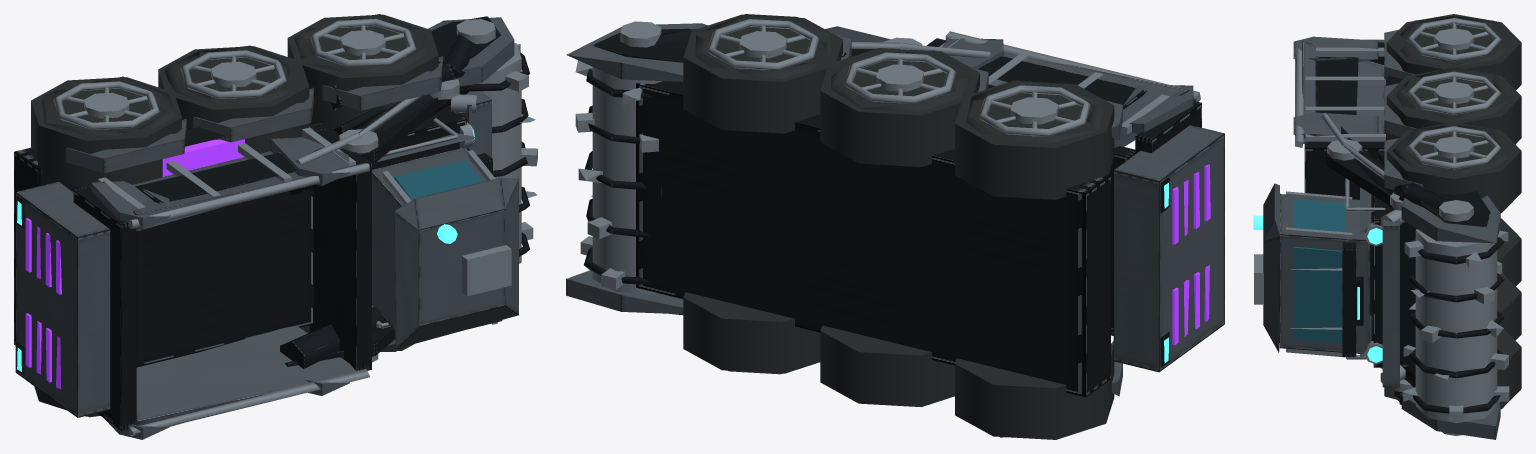
Rendered from harvester-low.glb.
3 views of the same model, side by side, from view 1: azimuth 30°, elevation 25°; view 2: azimuth 150°, elevation 25°; view 3: azimuth 270°, elevation 25° (orthographic). The views are drawn at different scales.
Visible parts, largest first — view 1: harvester-root.001 / Brushed pale alloy.001, harvester-root.001 / Ceramic graphite.001, harvester-root.001 / Titanium edges.001, Wheel 2 1.001 / Tire rubber.001, Wheel 0 1.001 / Tire rubber.001, Wheel 1 1.001 / Tire rubber.001, Mineral intake roller.001 / Titanium edges.001, harvester-root.001 / Violet processing.001, Wheel 1 1.001 / Titanium edges.001, Wheel 2 1.001 / Titanium edges.001, Wheel 0 1.001 / Titanium edges.001, harvester-root.001 / Cyan glazing.001 (+2 smaller); view 2: harvester-root.001 / Ceramic graphite.001, harvester-root.001 / Brushed pale alloy.001, Wheel 2 1.001 / Tire rubber.001, Wheel 0 1.001 / Tire rubber.001, Wheel 1 1.001 / Tire rubber.001, Mineral intake roller.001 / Titanium edges.001, Wheel 2 -1.001 / Tire rubber.001, Wheel 0 -1.001 / Tire rubber.001, Wheel 1 -1.001 / Tire rubber.001, harvester-root.001 / Titanium edges.001, Wheel 0 1.001 / Titanium edges.001, Wheel 1 1.001 / Titanium edges.001 (+3 smaller); view 3: harvester-root.001 / Brushed pale alloy.001, Mineral intake roller.001 / Titanium edges.001, harvester-root.001 / Ceramic graphite.001, harvester-root.001 / Titanium edges.001, Wheel 0 1.001 / Tire rubber.001, harvester-root.001 / Cyan glazing.001, Wheel 1 1.001 / Tire rubber.001, Wheel 2 1.001 / Tire rubber.001, Mineral intake roller.001 / Ceramic graphite.001, Wheel 2 1.001 / Titanium edges.001, Wheel 0 1.001 / Titanium edges.001, Wheel 1 1.001 / Titanium edges.001 (+4 smaller).
Part boxes in pixels (box(x1,y1,x2,y2)): harvester-root.001 / Brushed pale alloy.001: box(15, 17, 518, 439); harvester-root.001 / Ceramic graphite.001: box(14, 16, 500, 430); harvester-root.001 / Titanium edges.001: box(98, 19, 511, 435); Wheel 2 1.001 / Tire rubber.001: box(31, 76, 181, 187); Wheel 0 1.001 / Tire rubber.001: box(287, 14, 438, 125); Wheel 1 1.001 / Tire rubber.001: box(158, 45, 309, 153); Mineral intake roller.001 / Titanium edges.001: box(449, 43, 537, 263); harvester-root.001 / Violet processing.001: box(25, 139, 244, 389); Wheel 1 1.001 / Titanium edges.001: box(180, 50, 286, 98); Wheel 2 1.001 / Titanium edges.001: box(53, 81, 159, 129); Wheel 0 1.001 / Titanium edges.001: box(310, 18, 416, 66); harvester-root.001 / Cyan glazing.001: box(394, 160, 483, 199); harvester-root.001 / Ceramic graphite.001: box(592, 28, 1201, 397); harvester-root.001 / Brushed pale alloy.001: box(566, 23, 1224, 396); Wheel 2 1.001 / Tire rubber.001: box(955, 80, 1114, 199); Wheel 0 1.001 / Tire rubber.001: box(683, 14, 842, 133); Wheel 1 1.001 / Tire rubber.001: box(820, 48, 979, 166); Mineral intake roller.001 / Titanium edges.001: box(575, 60, 662, 293); Wheel 2 -1.001 / Tire rubber.001: box(955, 344, 1114, 439); Wheel 0 -1.001 / Tire rubber.001: box(683, 292, 820, 374); Wheel 1 -1.001 / Tire rubber.001: box(820, 325, 954, 407); harvester-root.001 / Titanium edges.001: box(620, 21, 1200, 134); Wheel 0 1.001 / Titanium edges.001: box(707, 19, 819, 70); Wheel 1 1.001 / Titanium edges.001: box(844, 52, 956, 103); harvester-root.001 / Brushed pale alloy.001: box(1263, 30, 1500, 439); Mineral intake roller.001 / Titanium edges.001: box(1403, 229, 1509, 423); harvester-root.001 / Ceramic graphite.001: box(1304, 42, 1490, 404); harvester-root.001 / Titanium edges.001: box(1254, 40, 1473, 435); Wheel 0 1.001 / Tire rubber.001: box(1386, 122, 1521, 212); harvester-root.001 / Cyan glazing.001: box(1293, 199, 1345, 343); Wheel 1 1.001 / Tire rubber.001: box(1386, 67, 1521, 144); Wheel 2 1.001 / Tire rubber.001: box(1386, 14, 1521, 89); Mineral intake roller.001 / Ceramic graphite.001: box(1408, 235, 1504, 413); Wheel 2 1.001 / Titanium edges.001: box(1407, 18, 1501, 61); Wheel 0 1.001 / Titanium edges.001: box(1407, 126, 1501, 169); Wheel 1 1.001 / Titanium edges.001: box(1407, 71, 1501, 114).
Bounding box in the file's own units: 1.52 × 0.793 × 0.77.
Materials: 7 (2 with a texture image).
